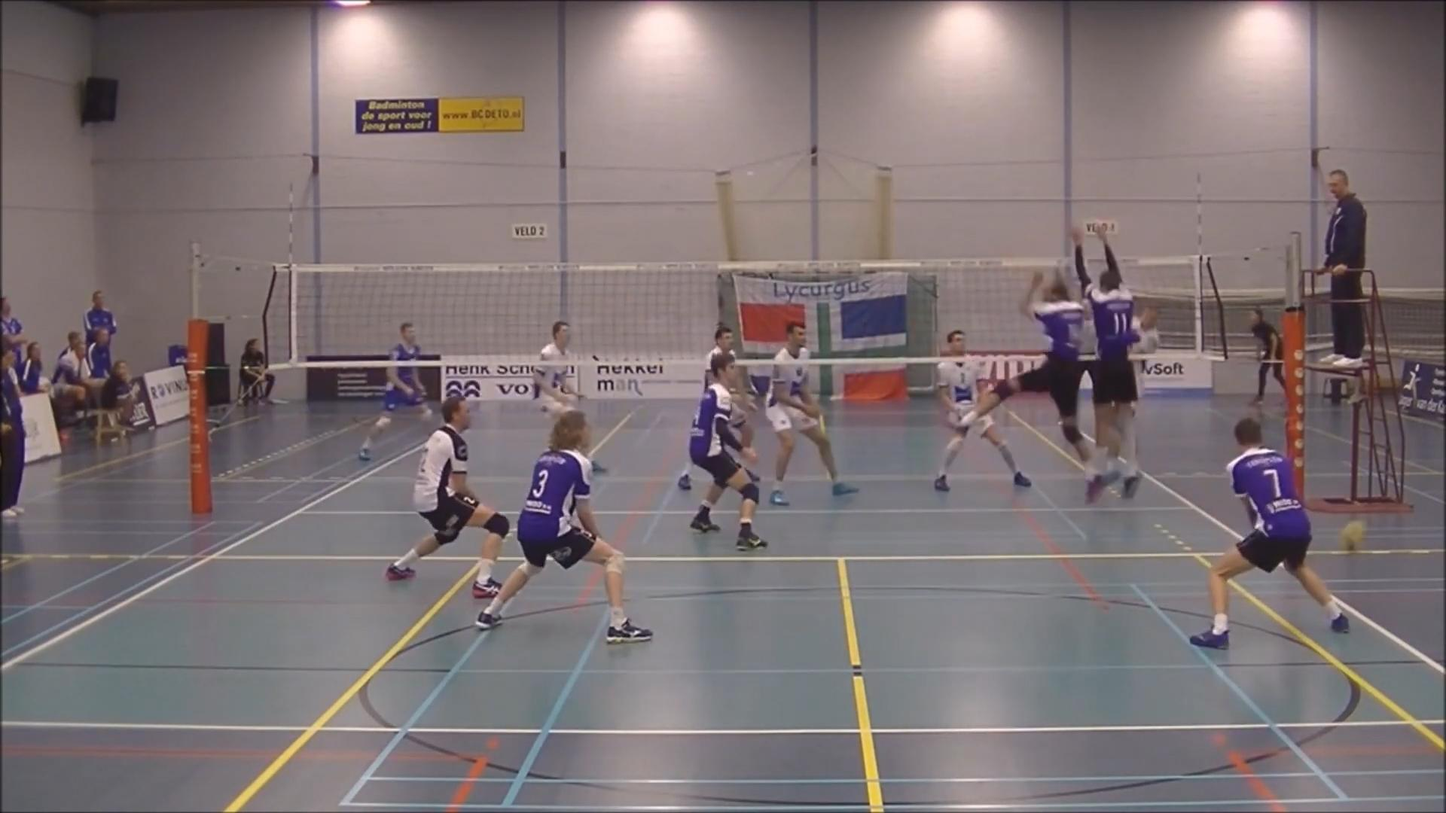attacco: (1118, 298, 1175, 482)
difesa: (1189, 413, 1357, 649)
muro: (948, 264, 1092, 470), (1070, 218, 1151, 503)
